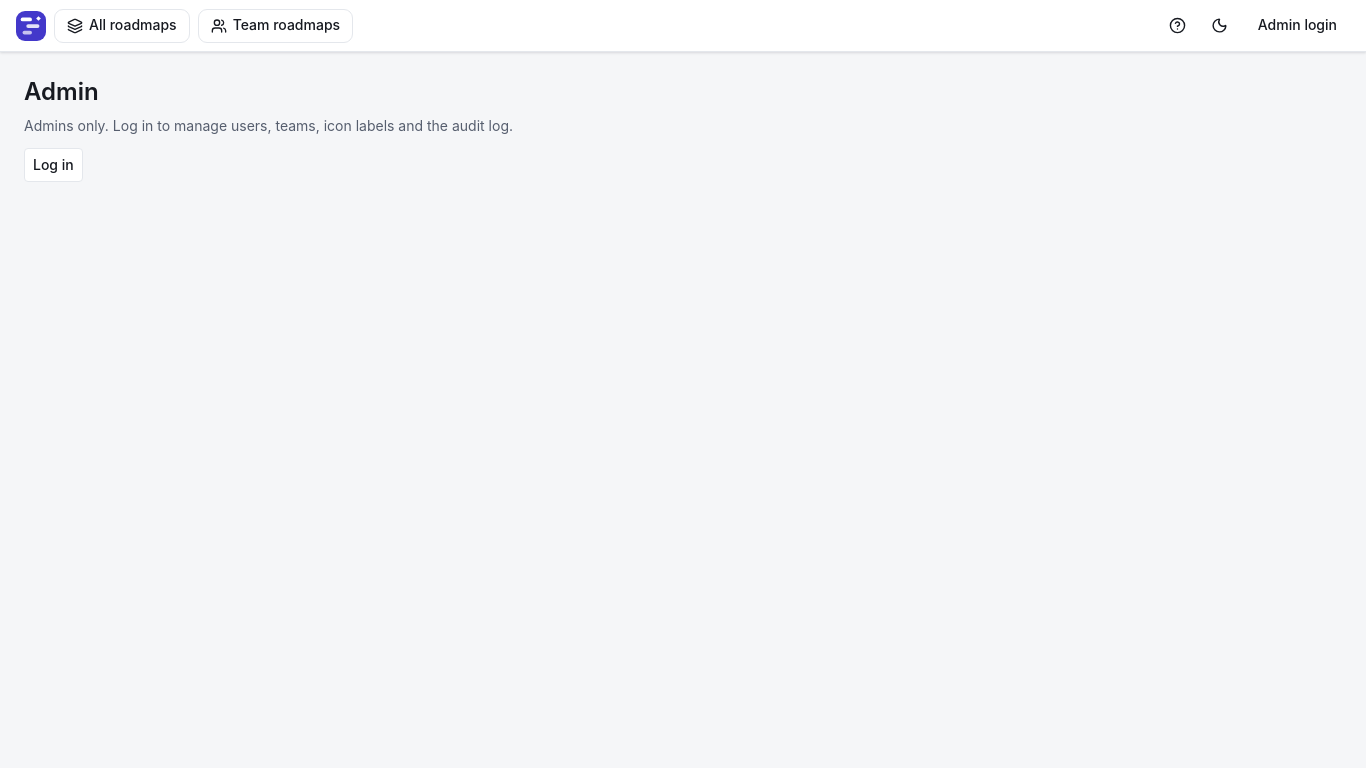
Test: REQ_AUTH_012 admin screen guard › REQ_AUTH_012 the guard button opens the login dialog over the page
Step 1. Click the button "Log in" → x=53, y=165, box [24,148,83,182]
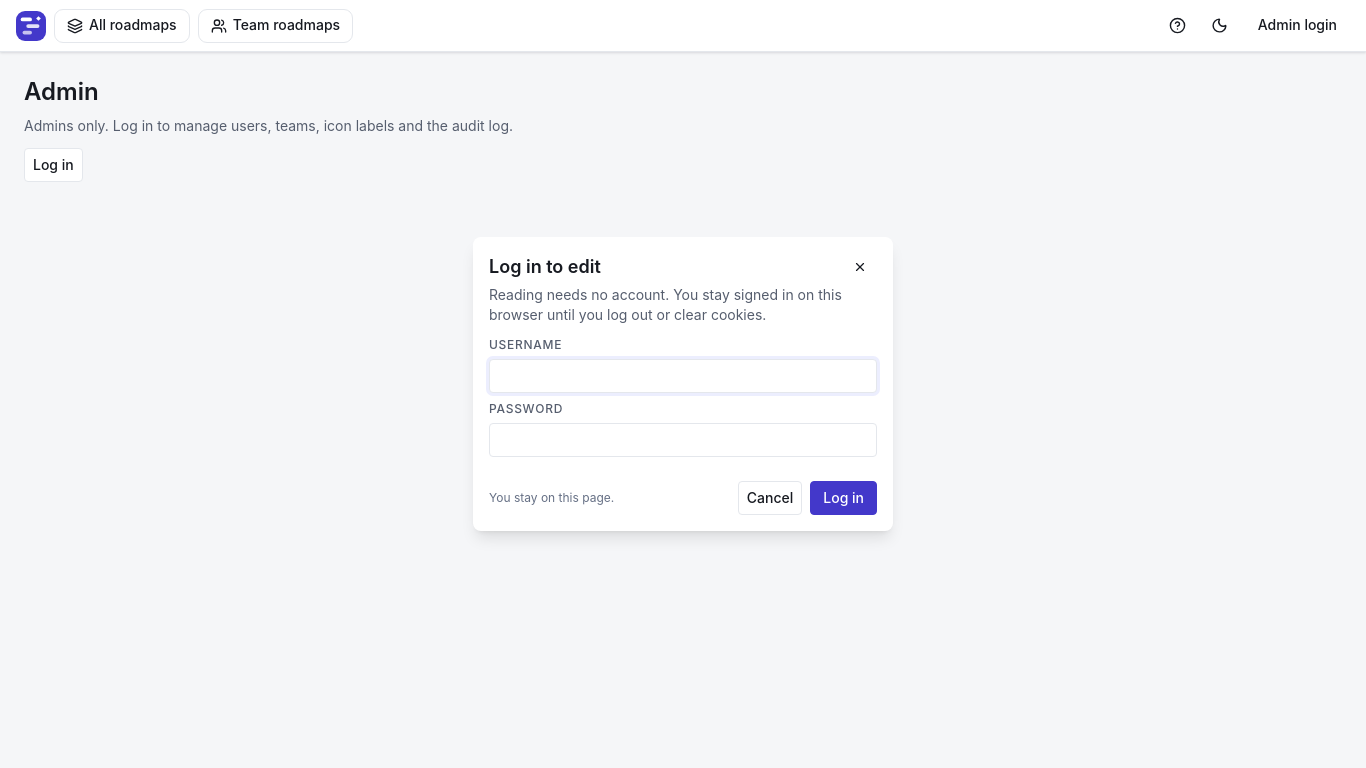
Check: the dialog "Log in" is shown, box [473,237,893,531]
